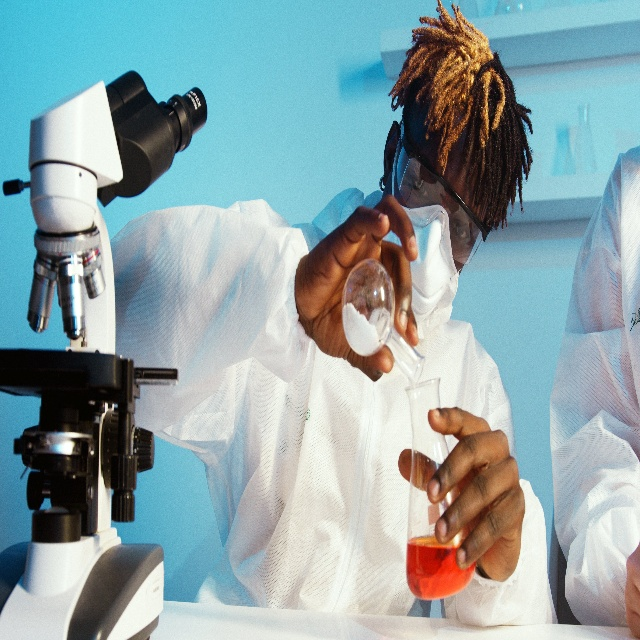Gafas: (394, 120, 489, 265)
Mascara: (400, 199, 460, 317)
Sin_guantes: (297, 189, 420, 378), (399, 403, 524, 581), (624, 545, 640, 631)
